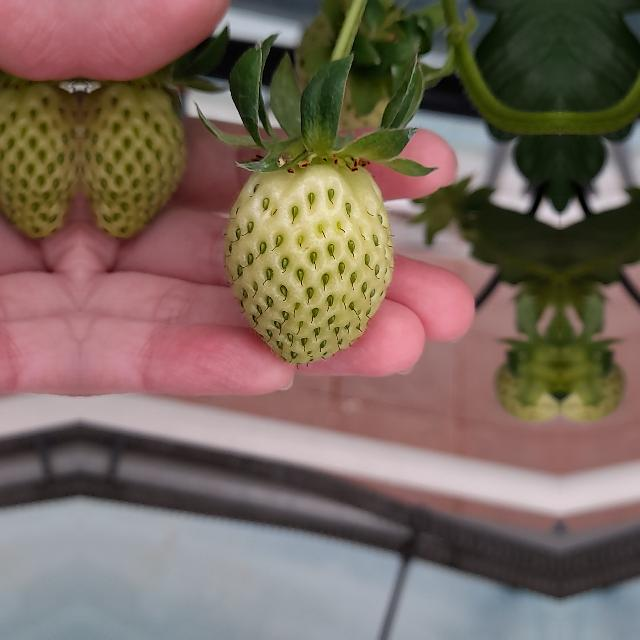Health_25: (224, 164, 394, 364)
